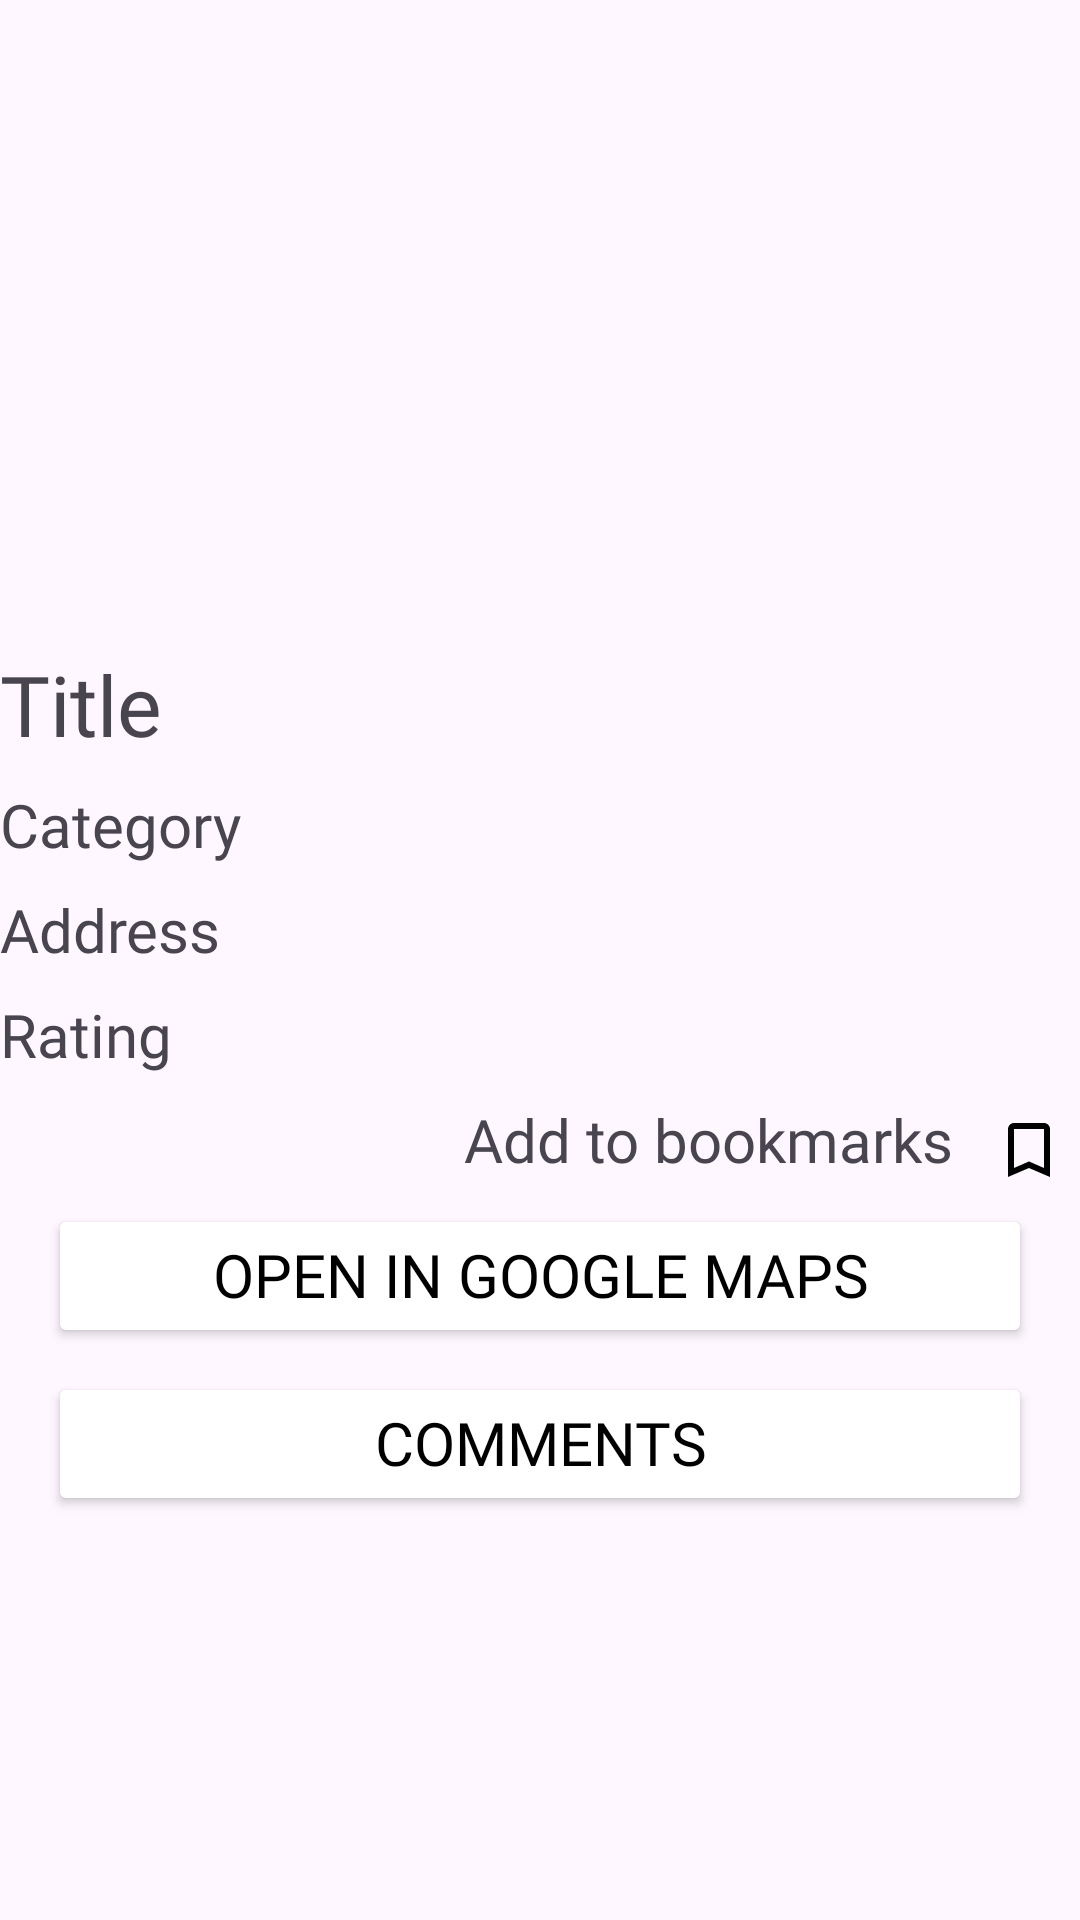

Locate icon controls on the screen. Image size 1080px x 1920px, boxes as rect(x1, y1, x2, y2).
bookmark border: rect(1008, 1123, 1050, 1177)
